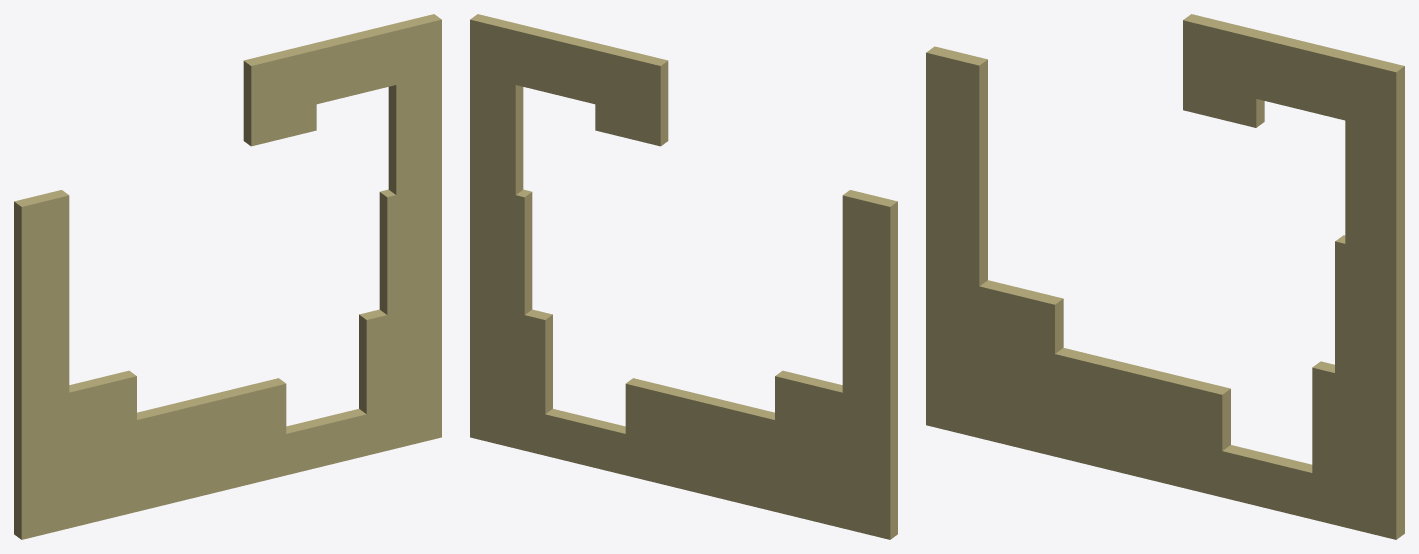
Rendered from ruin9.fbx.
3 renders of one model, left to right at view 1: azimuth 30°, elevation 25°; view 2: azimuth 150°, elevation 25°; view 3: azimuth 330°, elevation 25°, orthographic. The views are drawn at different scales.
Visible parts, largest first — view 1: Boole_9; view 2: Boole_9; view 3: Boole_9.
Boxes of the visible parts, left/top/right/bottom form: Boole_9: left=14, top=14, right=441, bottom=539; Boole_9: left=470, top=14, right=897, bottom=539; Boole_9: left=926, top=14, right=1404, bottom=539.
Bounding box in the file's own units: 344 × 327 × 10.86.
